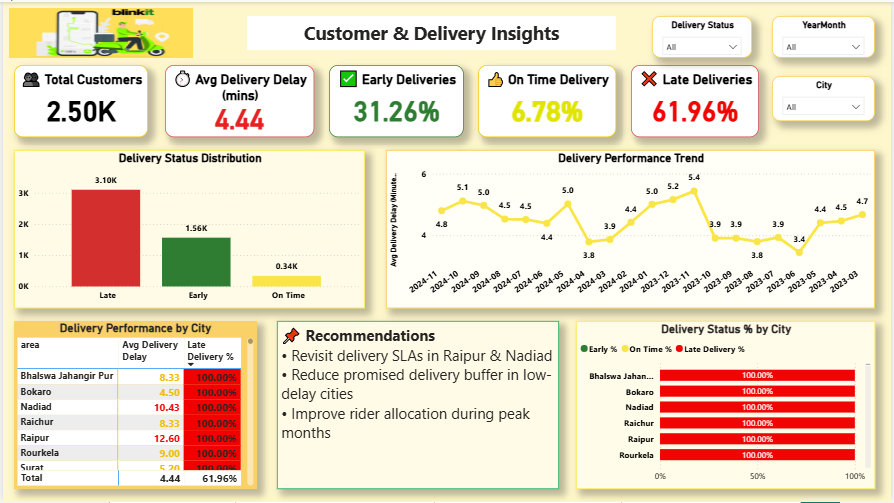

The page's visual inventory and layout, read from the dashboard file:
{"tool":"powerbi","page":{"name":"Customer & Delivery Insights","canvas":[1280,720],"ordinal":1},"visuals":[{"type":"card","title":"👥 Total Customers","fields":{"Values":["Dim_Date.Total Customers"]},"box":[15.8,90.7,193,103.7],"z":0},{"type":"card","title":"⏱️ Avg Delivery Delay (mins)","fields":{"Values":["Dim_Date.Avg Delivery Time"]},"box":[233.3,90.7,214.6,103.7],"z":1000},{"type":"card","title":"👍 On Time Delivery","fields":{"Values":["blinkit_delivery_performance.On Time %"]},"box":[684,90.7,198.7,103.7],"z":2000},{"type":"card","title":"❌ Late Deliveries","fields":{"Values":["blinkit_delivery_performance.Late Delivery %"]},"box":[904.3,90.7,184.3,103.7],"z":3000},{"type":"slicer","title":"Delivery Status","fields":{"Values":["blinkit_delivery_performance.Delivery Status"]},"box":[934.6,20.2,144,60.5],"z":4000},{"type":"slicer","title":"City","fields":{"Values":["blinkit_customers.area"]},"box":[1107.4,106.6,148.3,64.8],"z":5000},{"type":"slicer","title":"YearMonth","fields":{"Values":["Dim_Date.YearMonth"]},"box":[1107.4,20.2,148.3,60.5],"z":6000},{"type":"columnChart","title":"Delivery Status Distribution","fields":{"Category":["blinkit_delivery_performance.Delivery Status"],"Y":["Dim_Date.Total Orders"]},"box":[15.8,213.1,505.4,227.5],"z":7000},{"type":"lineChart","title":"Delivery Performance Trend","fields":{"Y":["blinkit_delivery_performance.Avg Delivery Delay"],"Category":["Dim_Date.YearMonth"]},"box":[551.5,213.1,704.2,227.5],"z":8000},{"type":"card","title":"✅ Early Deliveries","fields":{"Values":["blinkit_delivery_performance.Early %"]},"box":[469.4,90.7,194.4,103.7],"z":9000},{"type":"image","box":[8.6,8.6,265,72],"z":10000},{"type":"pivotTable","title":"Delivery Performance by City","fields":{"Rows":["blinkit_customers.area"],"Values":["blinkit_delivery_performance.Avg Delivery Delay","blinkit_delivery_performance.Late Delivery %"]},"box":[15.8,459.4,349.9,241.9],"z":11000},{"type":"textbox","box":[351.4,20.2,531.4,49],"z":12000},{"type":"textbox","box":[394.6,459.4,406.1,241.9],"z":13000},{"type":"barChart","title":"Delivery Status % by City","fields":{"Category":["blinkit_customers.area"],"Y":["blinkit_delivery_performance.Early %","blinkit_delivery_performance.On Time %","blinkit_delivery_performance.Late Delivery %"]},"box":[825.1,459.4,430.6,241.9],"z":14000}]}

Visuals, with their boxes in screenshot pixels (x1, y1, x2, y2), scaled from the page's 1280x720 canvas onto the 894x503 screenshot:
"👥 Total Customers" card: x1=11 y1=63 x2=146 y2=136
"⏱️ Avg Delivery Delay (mins)" card: x1=163 y1=63 x2=313 y2=136
"👍 On Time Delivery" card: x1=478 y1=63 x2=617 y2=136
"❌ Late Deliveries" card: x1=632 y1=63 x2=760 y2=136
"Delivery Status" slicer: x1=653 y1=14 x2=753 y2=56
"City" slicer: x1=773 y1=74 x2=877 y2=120
"YearMonth" slicer: x1=773 y1=14 x2=877 y2=56
"Delivery Status Distribution" columnChart: x1=11 y1=149 x2=364 y2=308
"Delivery Performance Trend" lineChart: x1=385 y1=149 x2=877 y2=308
"✅ Early Deliveries" card: x1=328 y1=63 x2=464 y2=136
image: x1=6 y1=6 x2=191 y2=56
"Delivery Performance by City" pivotTable: x1=11 y1=321 x2=255 y2=490
textbox: x1=245 y1=14 x2=617 y2=48
textbox: x1=276 y1=321 x2=559 y2=490
"Delivery Status % by City" barChart: x1=576 y1=321 x2=877 y2=490
